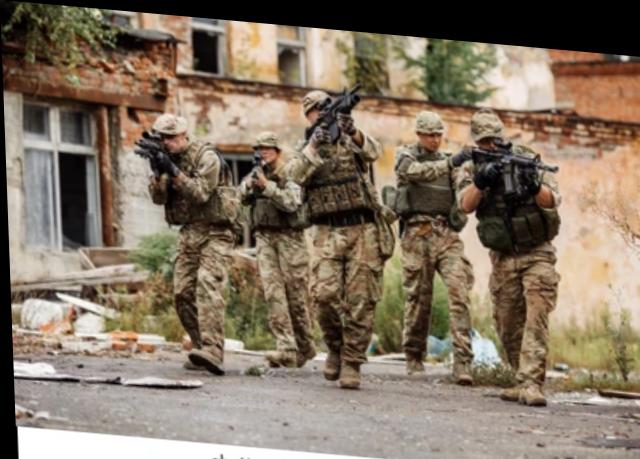other: (456, 105, 567, 398), (138, 107, 239, 371), (293, 80, 377, 377), (384, 108, 458, 367), (241, 131, 310, 362)
